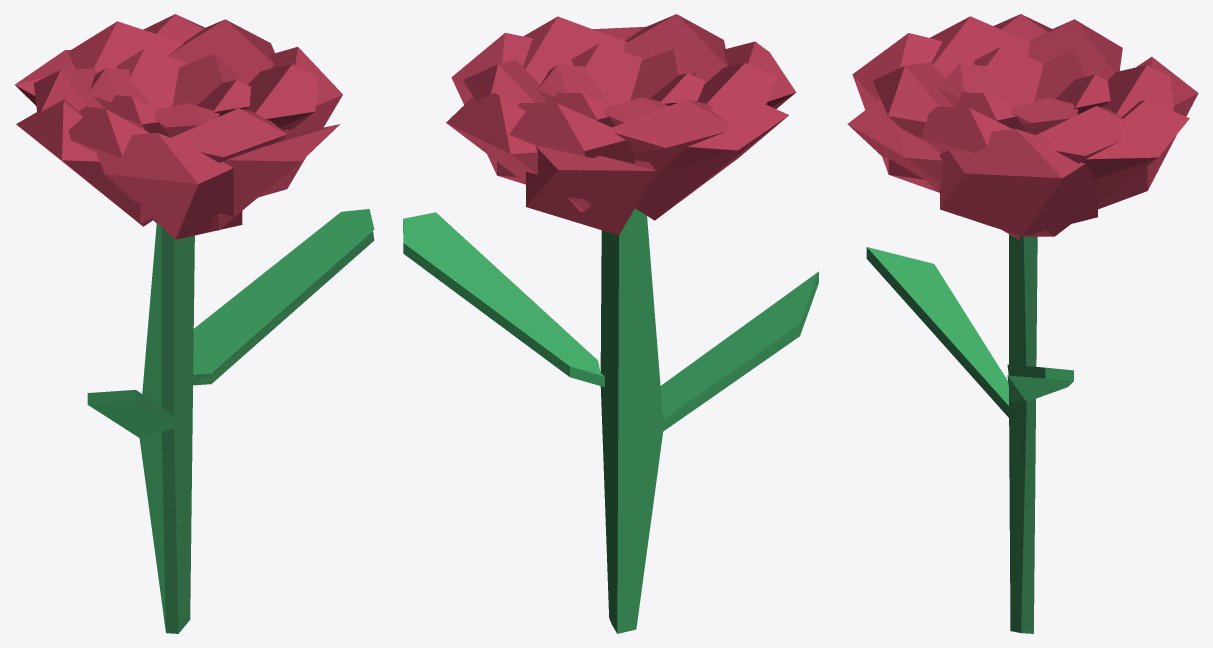
Rendered from opt_Rose_Flower.fbx.
3 renders of one model, left to right at view 1: azimuth 30°, elevation 25°; view 2: azimuth 150°, elevation 25°; view 3: azimuth 270°, elevation 25°, orthographic.
Parts seen in each view (by area): view 1: pPlatonic10; view 2: pPlatonic10; view 3: pPlatonic10.
Boxes of the visible parts, box(x1,y1,x2,y2) form: pPlatonic10: box(15, 14, 374, 633); pPlatonic10: box(403, 14, 818, 633); pPlatonic10: box(847, 14, 1198, 633).
Bounding box in the file's own units: 2.29 × 3.59 × 2.
